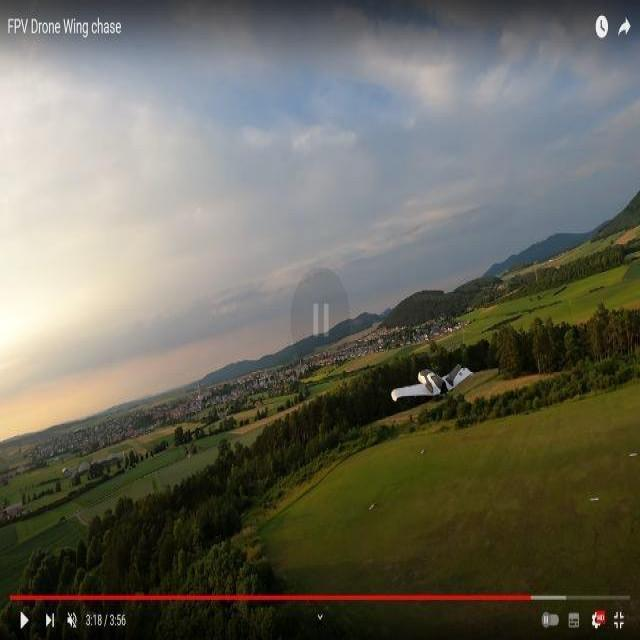Airplane: (382, 355, 482, 410)
